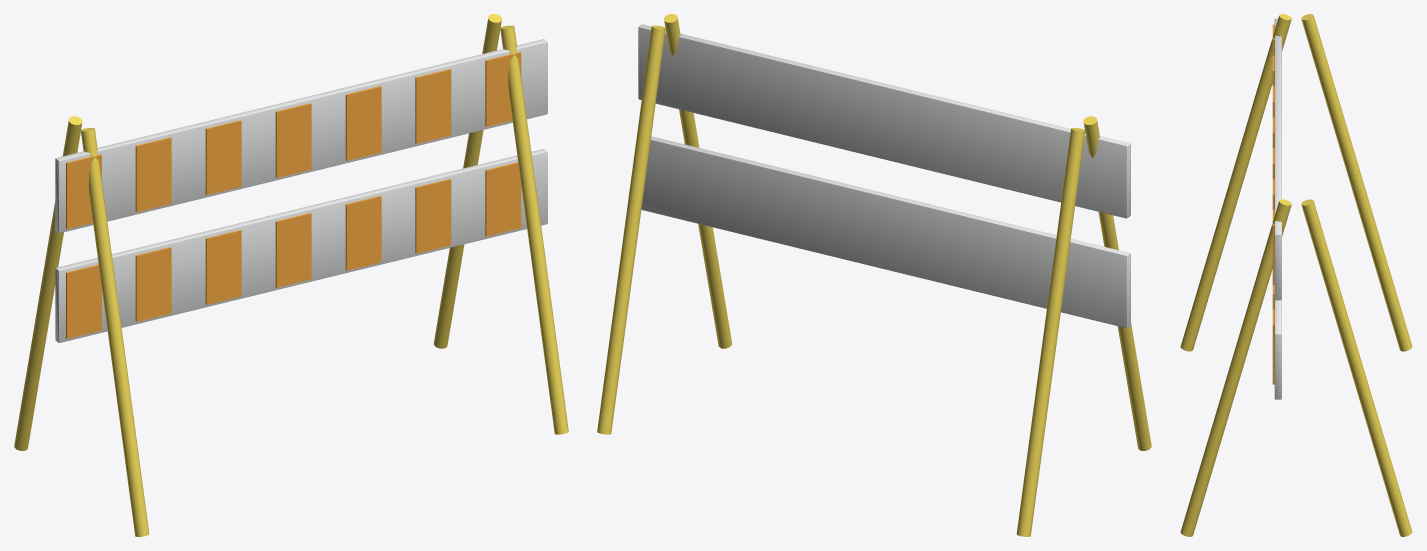
Rendered from SER-EPC-004_anim.glb.
3 views of the same model, side by side, from view 1: azimuth 30°, elevation 25°; view 2: azimuth 150°, elevation 25°; view 3: azimuth 270°, elevation 25° (orthographic). The views are drawn at different scales.
Parts seen in each view (by area): view 1: SER-EPC-004_anim0; view 2: SER-EPC-004_anim0; view 3: SER-EPC-004_anim0.
Part boxes in pixels (x1,y1,x2,y2): SER-EPC-004_anim0: [14, 14, 568, 536]; SER-EPC-004_anim0: [597, 14, 1151, 536]; SER-EPC-004_anim0: [1180, 14, 1412, 536].
Size of the model in its own units: 1.4 by 1.01 by 0.6348.
